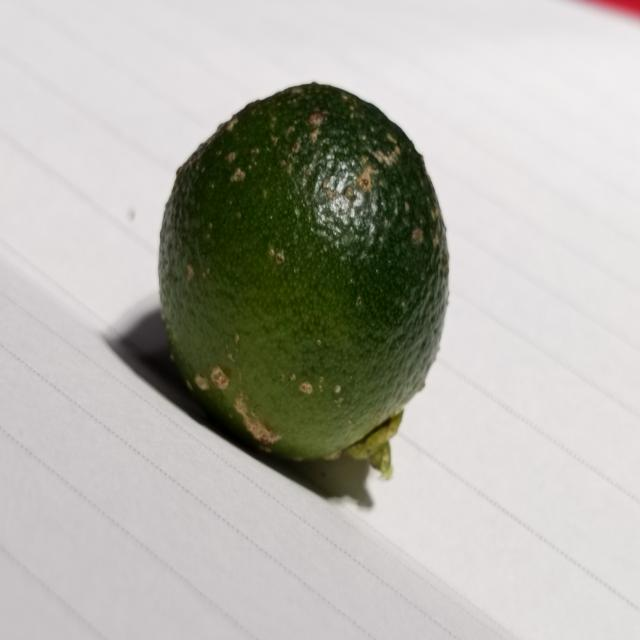scab: (166, 70, 437, 493)
